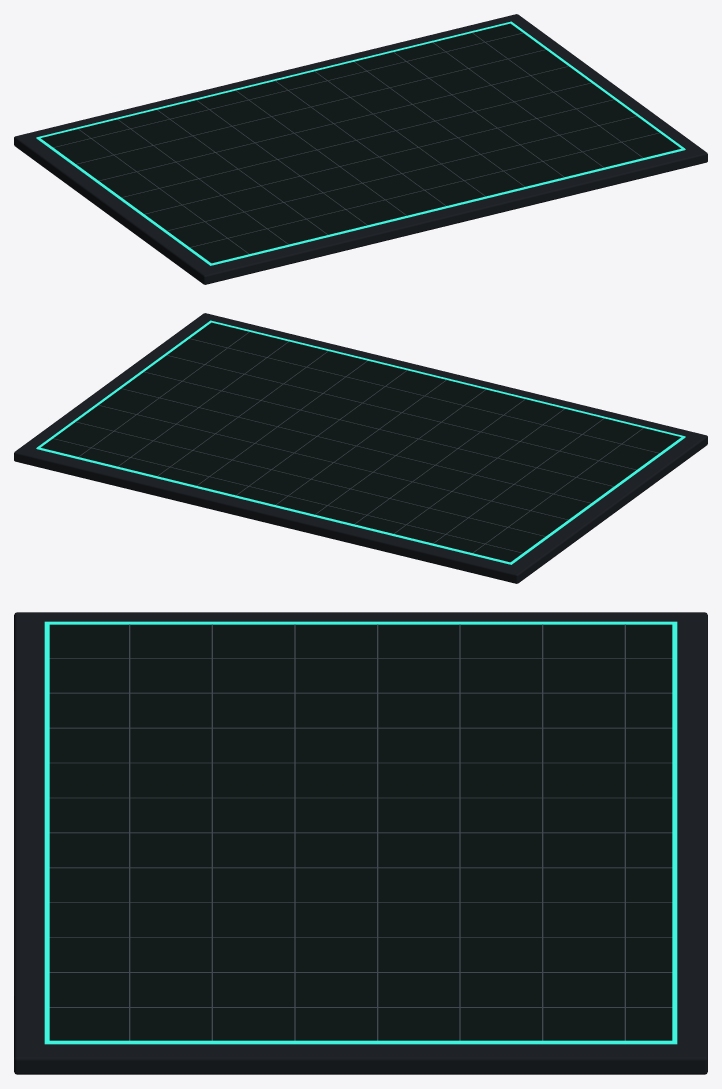
The model's file is city.glb.
3 renders of one model, top to bottom at view 1: azimuth 30°, elevation 25°; view 2: azimuth 150°, elevation 25°; view 3: azimuth 270°, elevation 25°, orthographic. The views are drawn at different scales.
Visible parts, largest first — view 1: City_Ground, City_Plate, City_Grid, City_Edge; view 2: City_Ground, City_Plate, City_Grid, City_Edge; view 3: City_Ground, City_Plate, City_Grid, City_Edge.
Boxes of the visible parts, left/top/right/bottom form: City_Ground: left=41, top=23, right=680, bottom=263; City_Plate: left=14, top=14, right=707, bottom=284; City_Grid: left=53, top=32, right=659, bottom=253; City_Edge: left=36, top=21, right=685, bottom=265; City_Ground: left=41, top=322, right=680, bottom=562; City_Plate: left=14, top=313, right=707, bottom=583; City_Grid: left=53, top=331, right=659, bottom=553; City_Edge: left=36, top=320, right=685, bottom=564; City_Ground: left=49, top=624, right=672, bottom=1040; City_Plate: left=14, top=612, right=707, bottom=1074; City_Grid: left=49, top=624, right=672, bottom=1040; City_Edge: left=44, top=621, right=677, bottom=1044.
Bounding box in the file's own units: 6.4 × 0.136 × 4.2.
